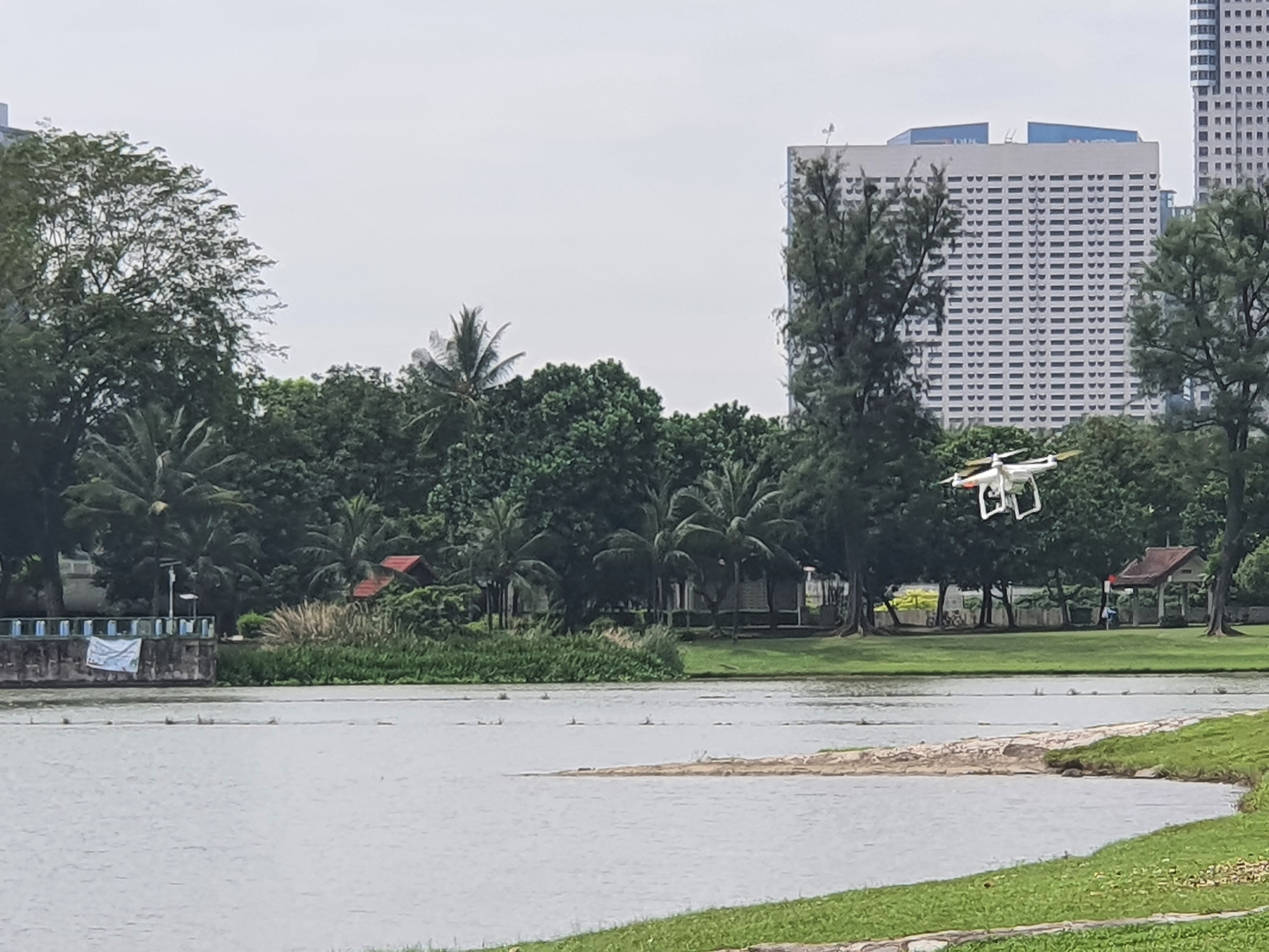drone_other: (926, 444, 1084, 523)
